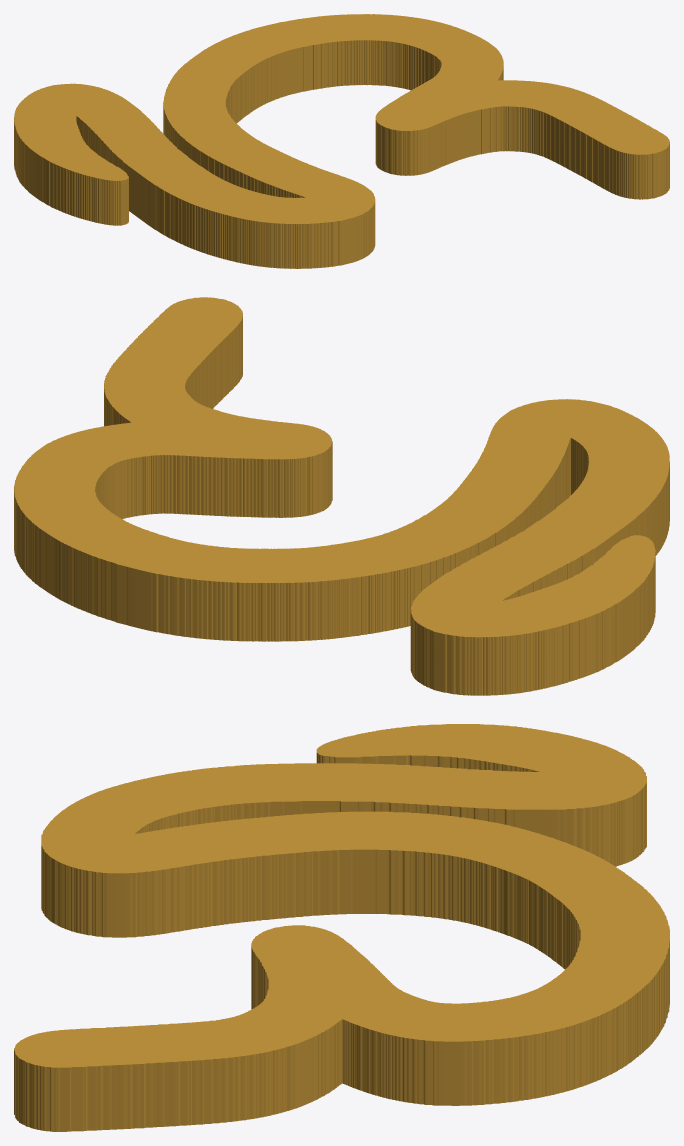
The picture shows the model from 3 angles, top to bottom: view 1: azimuth 30°, elevation 25°; view 2: azimuth 150°, elevation 25°; view 3: azimuth 270°, elevation 25°; orthographic projection. The views are drawn at different scales.
Visible parts, largest first — view 1: Curve.015; view 2: Curve.015; view 3: Curve.015.
Part boxes in pixels (bbox=[...]): Curve.015: bbox=[14, 14, 669, 268]; Curve.015: bbox=[14, 297, 669, 695]; Curve.015: bbox=[14, 724, 669, 1131].
Size of the model in its own units: 111 by 9.65 by 89.21.
